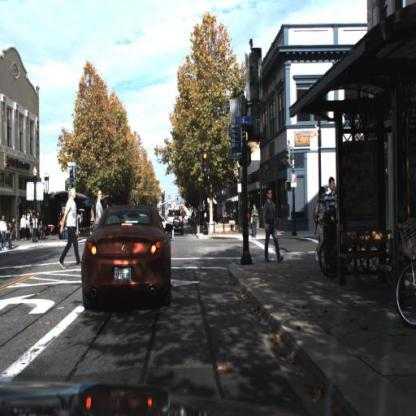car: (81, 205, 177, 315), (160, 210, 178, 250), (164, 208, 187, 238)
pedestrian: (57, 187, 86, 269), (263, 188, 285, 263), (315, 187, 330, 261), (92, 177, 108, 225), (326, 177, 338, 232), (251, 202, 261, 240), (1, 215, 9, 250), (251, 202, 258, 238), (29, 212, 37, 240), (38, 210, 44, 246), (19, 214, 27, 240), (30, 212, 38, 238), (8, 223, 15, 252), (12, 216, 18, 241), (26, 213, 31, 241)
trafficLight-Red: (202, 150, 210, 174), (69, 165, 75, 181)
